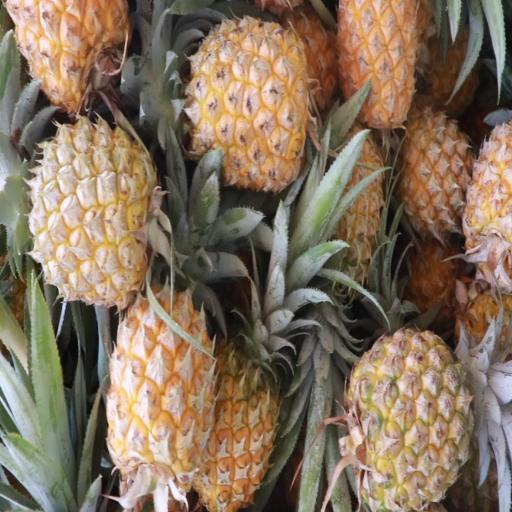------------------------------: (327, 319, 512, 512)
Pineapple - v8 v1: (102, 270, 213, 512), (193, 245, 291, 512), (27, 128, 167, 305), (167, 19, 310, 187), (292, 118, 387, 314), (397, 110, 472, 252), (334, 4, 418, 124)
